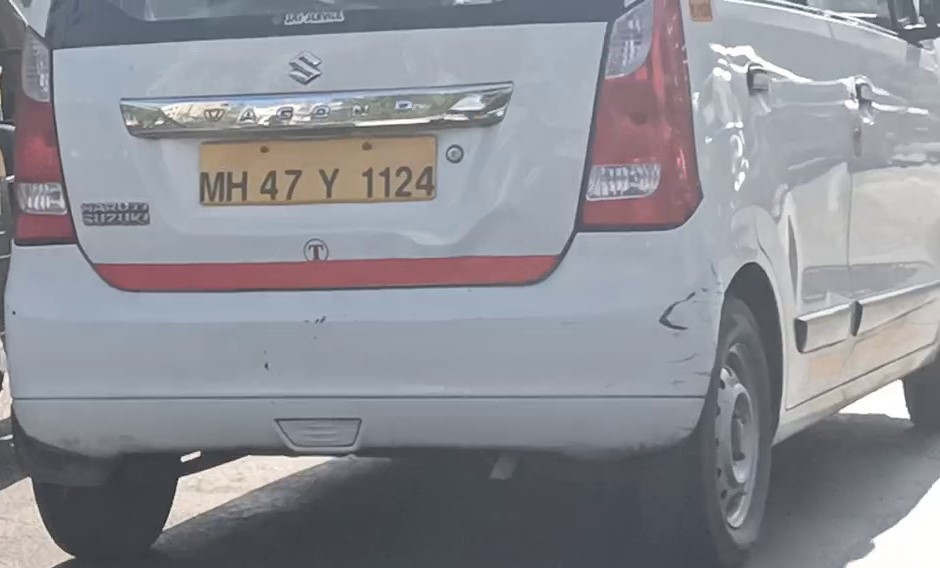MH47Y1124: (198, 137, 438, 206)
